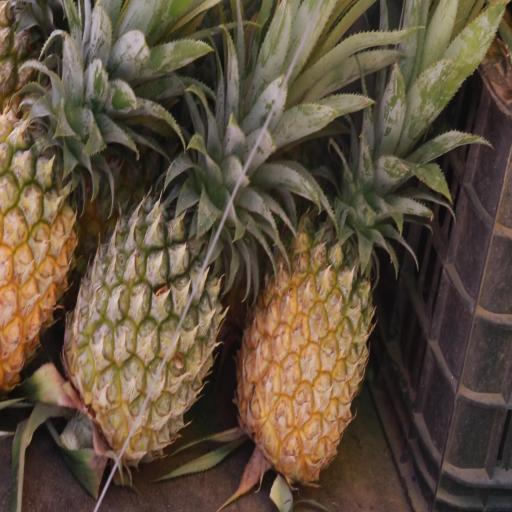Pineapple - v8 v1: (232, 130, 378, 494), (0, 45, 80, 399)
